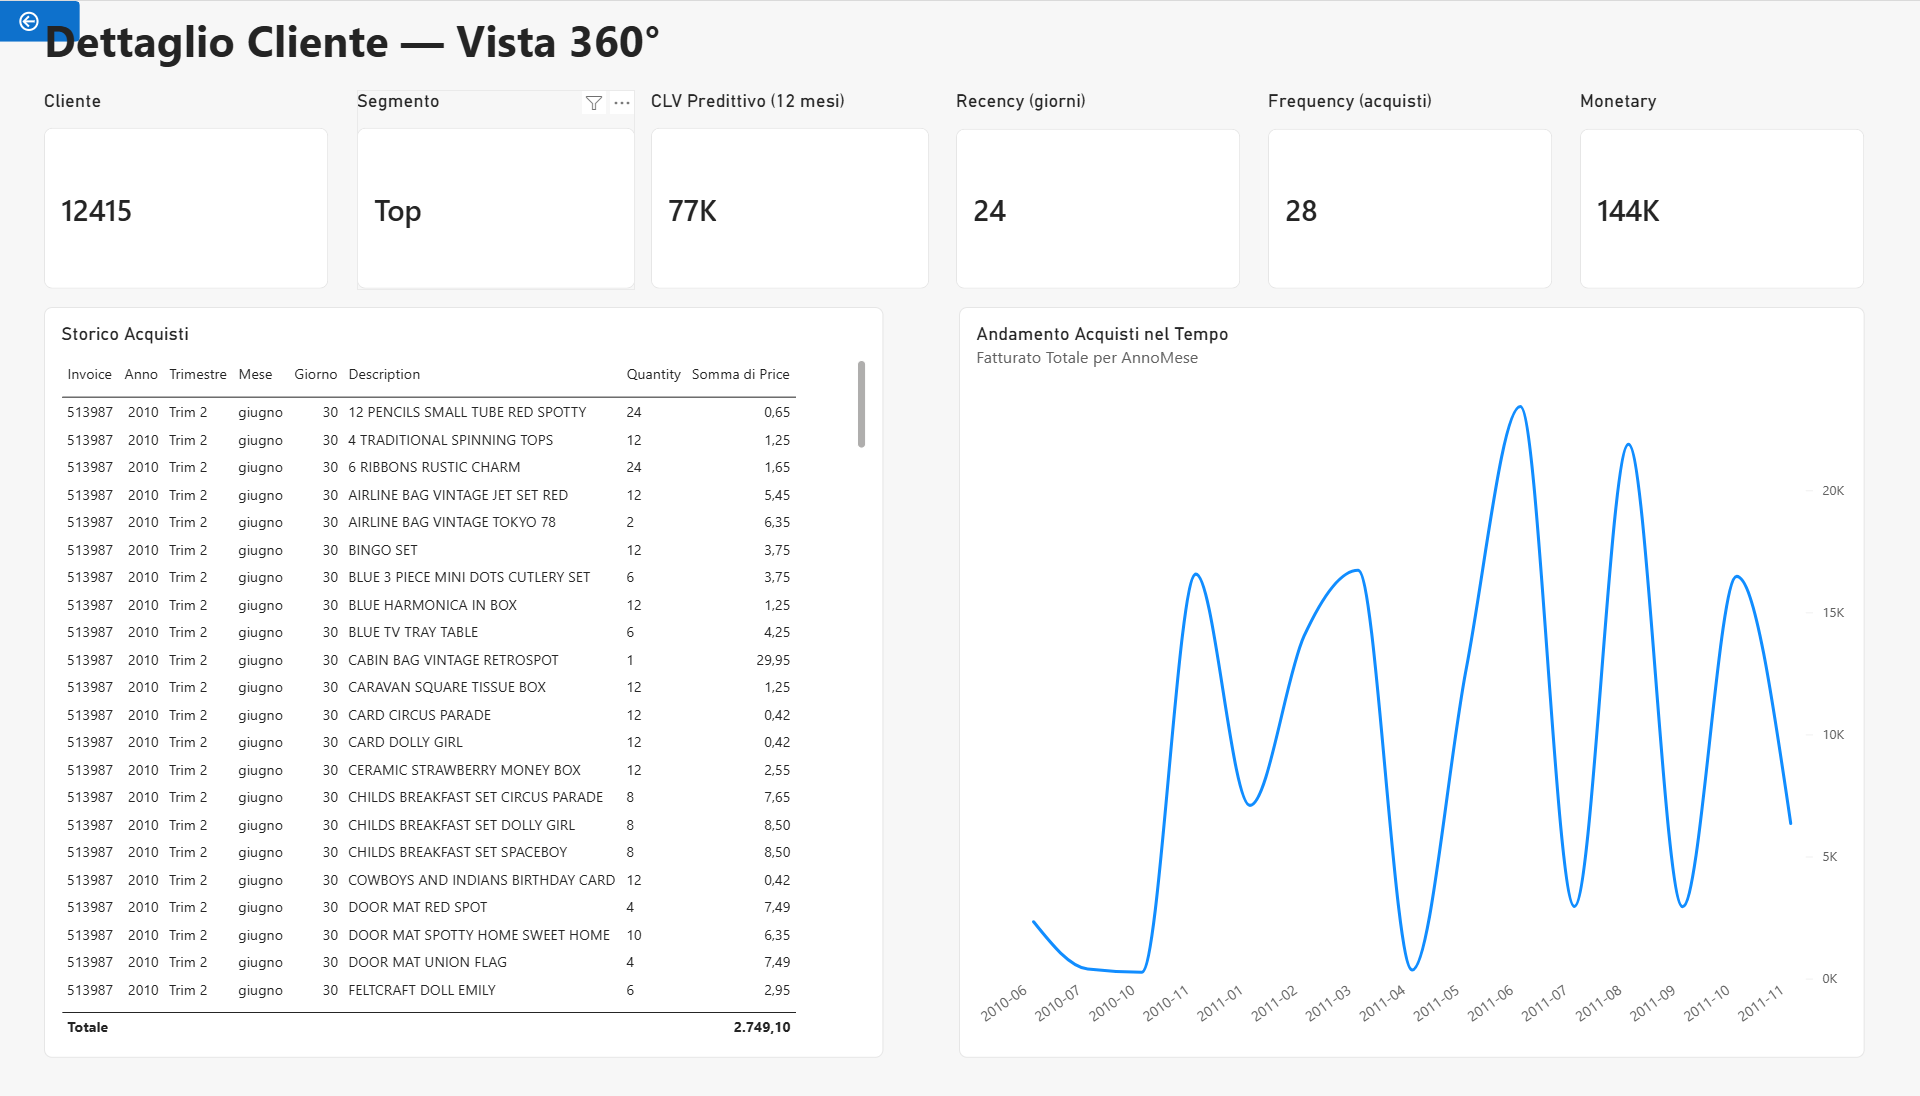

What the dashboard file says about the page in this screenshot:
{"tool":"powerbi","page":{"name":"Dettaglio Cliente","canvas":[1920,1080],"ordinal":3},"visuals":[{"type":"cardVisual","title":"Cliente","fields":{"Data":["Max(customer_rfm.CustomerID)"]},"box":[65.1,87.6,279.7,195.8],"z":0},{"type":"cardVisual","title":"Recency (giorni)","fields":{"Data":["Max(customer_rfm.Recency)"]},"box":[960,87.6,279.7,195.8],"z":1000},{"type":"cardVisual","title":"Frequency (acquisti)","fields":{"Data":["Max(customer_rfm.Frequency)"]},"box":[1266.6,87.6,279.7,195.8],"z":2000},{"type":"cardVisual","title":"Monetary","fields":{"Data":["Max(customer_rfm.Monetary)"]},"box":[1572,87.6,279.7,195.8],"z":3000},{"type":"cardVisual","title":"Segmento","fields":{"Data":["Min(customer_rfm.Segment)"]},"box":[371.7,87.6,273,195.8],"z":4000},{"type":"cardVisual","title":"CLV Predittivo (12 mesi)","fields":{"Data":["Max(customer_clv_predittivo.CLV_predittivo_12m)"]},"box":[660.9,87.6,273,195.8],"z":5000},{"type":"tableEx","title":"Storico Acquisti","fields":{"Values":["online_retail_clean.Invoice","online_retail_clean.InvoiceDate.Variazione.Gerarchia data.Anno","online_retail_clean.InvoiceDate.Variazione.Gerarchia data.Trimestre","online_retail_clean.InvoiceDate.Variazione.Gerarchia data.Mese","online_retail_clean.InvoiceDate.Variazione.Gerarchia data.Giorno","online_retail_clean.Description","online_retail_clean.Quantity","Sum(online_retail_clean.Price)"]},"box":[65.1,300.4,823.6,737.2],"z":6000},{"type":"actionButton","box":[0,0,100,40],"z":7000},{"type":"lineChart","title":"Andamento Acquisti nel Tempo","fields":{"Category":["online_retail_clean.AnnoMese"],"Y2":["customer_rfm.Fatturato Totale"]},"box":[962.5,300.4,888.7,737.2],"z":8000},{"type":"textbox","box":[65.1,8.8,697.2,62.6],"z":9000}]}

Visuals, with their boxes in screenshot pixels (x1, y1, x2, y2), scaled from the page's 1920x1080 canvas onto the 1920x1096 screenshot:
"Cliente" cardVisual: <bbox>65, 89, 345, 288</bbox>
"Recency (giorni)" cardVisual: <bbox>960, 89, 1240, 288</bbox>
"Frequency (acquisti)" cardVisual: <bbox>1267, 89, 1546, 288</bbox>
"Monetary" cardVisual: <bbox>1572, 89, 1852, 288</bbox>
"Segmento" cardVisual: <bbox>372, 89, 645, 288</bbox>
"CLV Predittivo (12 mesi)" cardVisual: <bbox>661, 89, 934, 288</bbox>
"Storico Acquisti" tableEx: <bbox>65, 305, 889, 1053</bbox>
actionButton: <bbox>0, 0, 100, 41</bbox>
"Andamento Acquisti nel Tempo" lineChart: <bbox>962, 305, 1851, 1053</bbox>
textbox: <bbox>65, 9, 762, 72</bbox>
